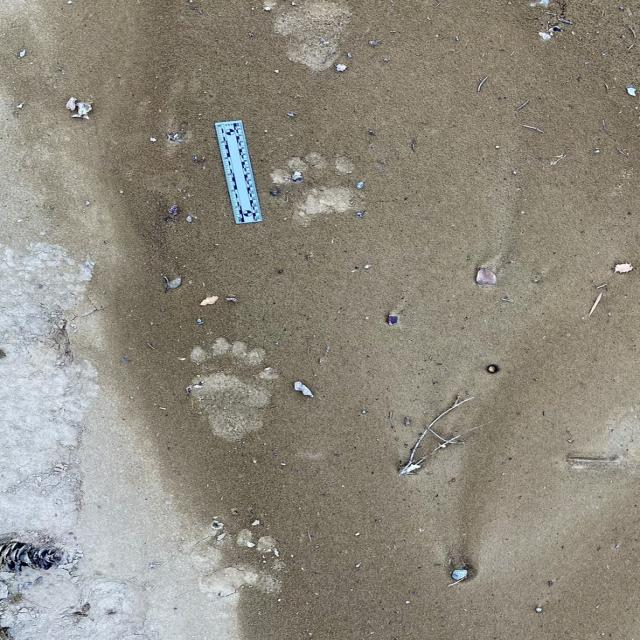bear: (187, 344, 276, 435), (184, 530, 292, 598), (268, 154, 369, 225)
